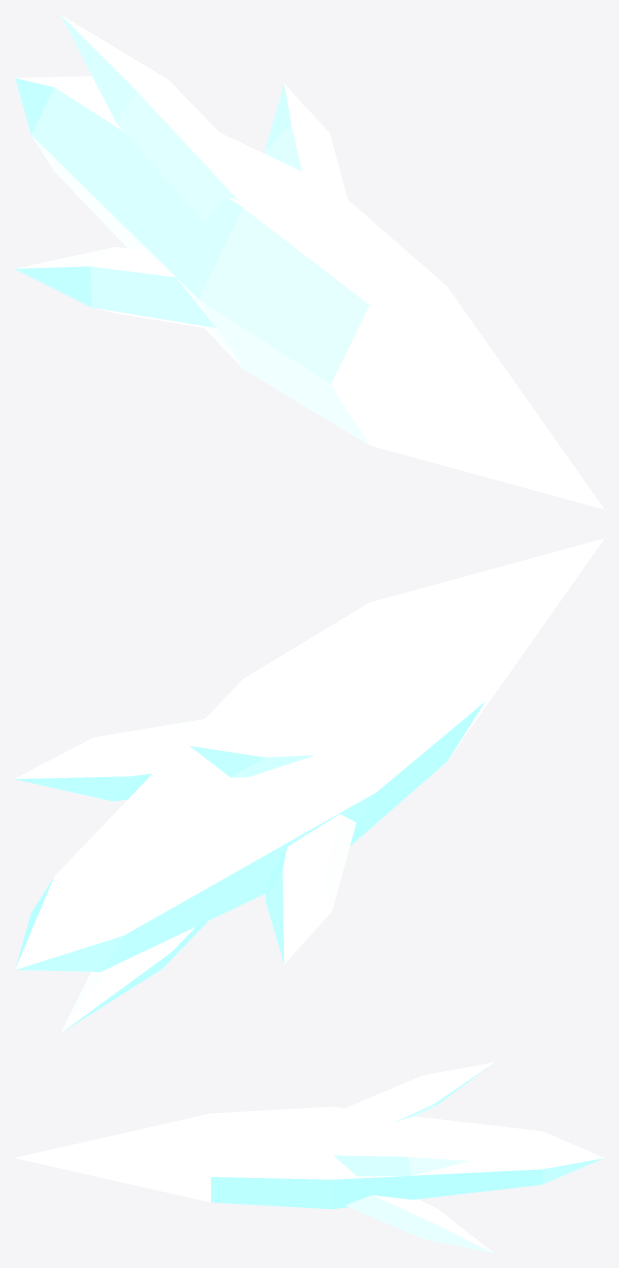
Rendered from proj_ice_spear.glb.
3 views of the same model, one above another, from view 1: azimuth 30°, elevation 25°; view 2: azimuth 150°, elevation 25°; view 3: azimuth 270°, elevation 25° (orthographic). The views are drawn at different scales.
Parts seen in each view (by area): view 1: proj_ice_spear; view 2: proj_ice_spear; view 3: proj_ice_spear.
Boxes of the visible parts, bbox=[...] form: proj_ice_spear: bbox=[14, 14, 604, 509]; proj_ice_spear: bbox=[14, 538, 604, 1033]; proj_ice_spear: bbox=[15, 1062, 604, 1253].
Size of the model in its own units: 0.3491 by 0.3945 by 1.32.
